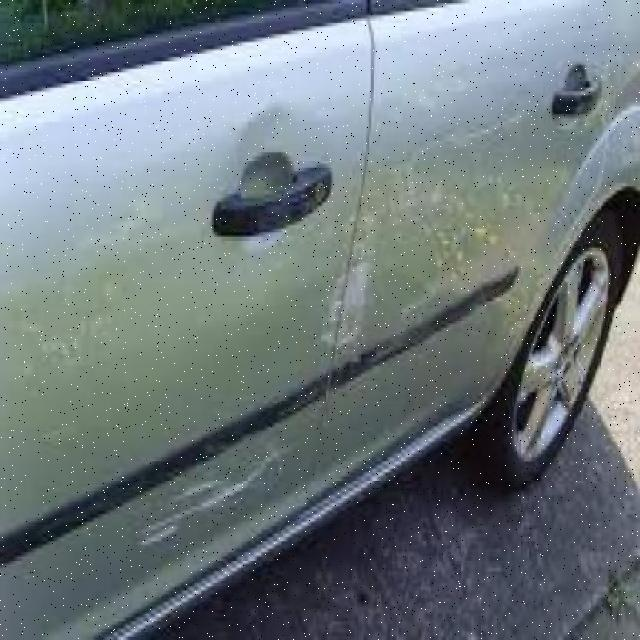damage: (135, 435, 298, 561), (320, 207, 368, 356)
